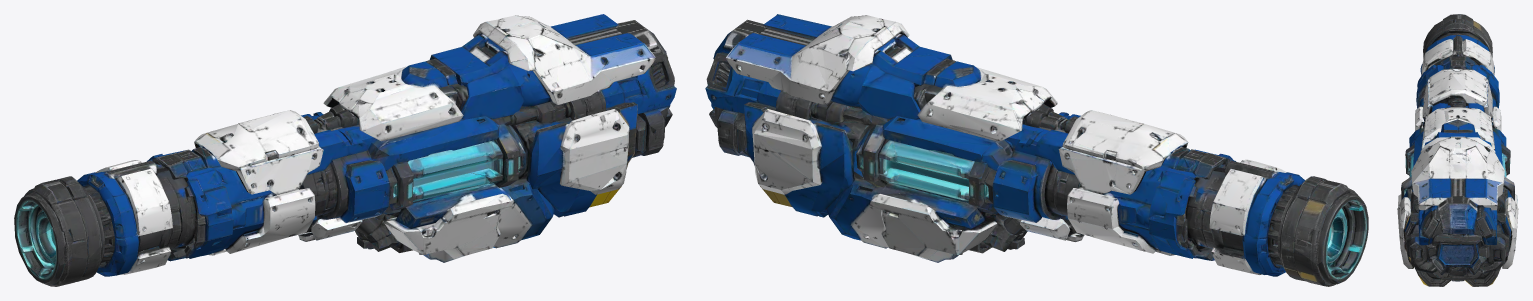
Rendered from part-cannon.glb.
3 renders of one model, left to right at view 1: azimuth 30°, elevation 25°; view 2: azimuth 150°, elevation 25°; view 3: azimuth 270°, elevation 25°, orthographic. The views are drawn at different scales.
Visible parts, largest first — view 1: Mesh_0; view 2: Mesh_0; view 3: Mesh_0.
Boxes of the visible parts, <box> form: Mesh_0: <box>14,14,676,286</box>; Mesh_0: <box>705,14,1368,286</box>; Mesh_0: <box>1397,14,1518,286</box>.
Bounding box in the file's own units: 1.9 × 0.5967 × 0.4628.
Materials: 1 (1 with a texture image).
